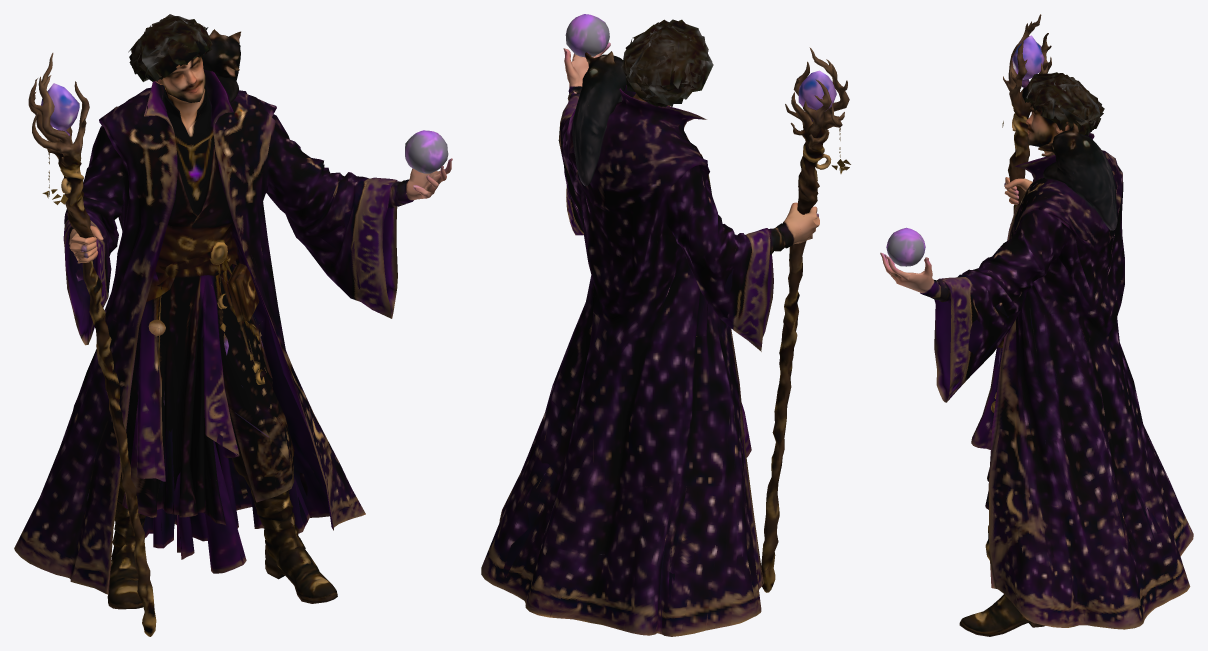
File: anthon.glb
3 views of the same model, side by side, from view 1: azimuth 30°, elevation 25°; view 2: azimuth 150°, elevation 25°; view 3: azimuth 270°, elevation 25° (orthographic). The views are drawn at different scales.
Visible parts, largest first — view 1: geometry_0; view 2: geometry_0; view 3: geometry_0.
Boxes of the visible parts, bbox=[...] form: geometry_0: bbox=[14, 14, 452, 636]; geometry_0: bbox=[481, 14, 850, 636]; geometry_0: bbox=[880, 14, 1193, 636].
Bounding box in the file's own units: 0.5938 × 0.9512 × 0.522.
Materials: 1 (1 with a texture image).
